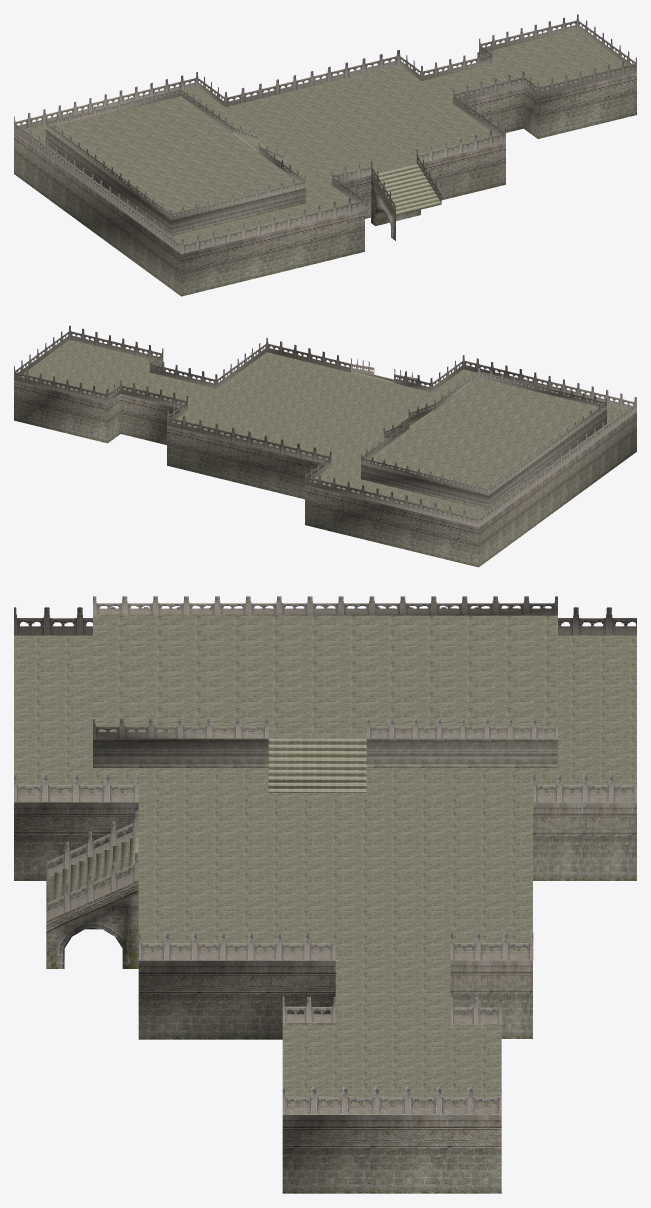
The model's file is cj_pal_south_buildan01.glb.
The picture shows the model from 3 angles, top to bottom: view 1: azimuth 30°, elevation 25°; view 2: azimuth 150°, elevation 25°; view 3: azimuth 270°, elevation 25°; orthographic projection. The views are drawn at different scales.
Visible parts, largest first — view 1: CJ_pal_south_brid01_floor01, CJ_pal_south_brid01_wall01, CJ_pal_south_brid01_fence_al, CJ_pal_south_brid01_floor02, CJ_pal_south_brid01_wall02; view 2: CJ_pal_south_brid01_floor01, CJ_pal_south_brid01_wall01, CJ_pal_south_brid01_fence_al, CJ_pal_south_brid01_floor02; view 3: CJ_pal_south_brid01_floor01, CJ_pal_south_brid01_wall01, CJ_pal_south_brid01_fence_al, CJ_pal_south_brid01_floor02, CJ_pal_south_brid01_wall02.
Boxes of the visible parts, <box> form: CJ_pal_south_brid01_floor01: <box>23,29,631,247</box>; CJ_pal_south_brid01_wall01: <box>14,54,636,296</box>; CJ_pal_south_brid01_fence_al: <box>14,14,636,253</box>; CJ_pal_south_brid01_floor02: <box>232,133,441,215</box>; CJ_pal_south_brid01_wall02: <box>371,176,420,240</box>; CJ_pal_south_brid01_floor01: <box>19,340,631,521</box>; CJ_pal_south_brid01_wall01: <box>14,363,636,567</box>; CJ_pal_south_brid01_fence_al: <box>14,325,636,527</box>; CJ_pal_south_brid01_floor02: <box>351,371,433,432</box>; CJ_pal_south_brid01_floor01: <box>14,615,636,1105</box>; CJ_pal_south_brid01_wall01: <box>14,738,636,1193</box>; CJ_pal_south_brid01_fence_al: <box>14,596,636,1114</box>; CJ_pal_south_brid01_floor02: <box>46,738,366,910</box>; CJ_pal_south_brid01_wall02: <box>46,880,138,968</box>.
Bounding box in the file's own units: 54.62 × 7.33 × 30.
Materials: 5 (5 with a texture image).
